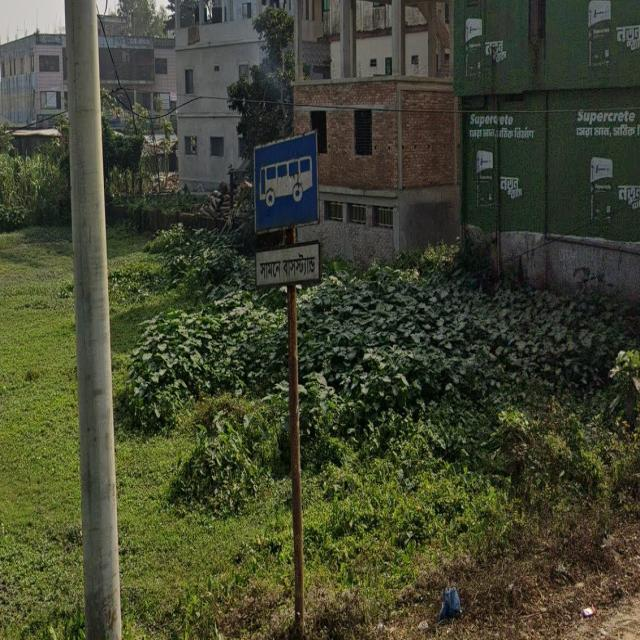Ahead-the-bus-station: (248, 128, 334, 290)
